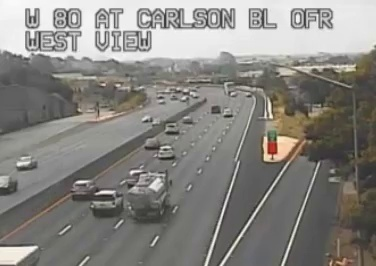car: (91, 190, 123, 212), (71, 179, 95, 197), (158, 146, 173, 158), (164, 123, 178, 133), (145, 138, 159, 148)
tank-truck: (129, 171, 168, 220)
